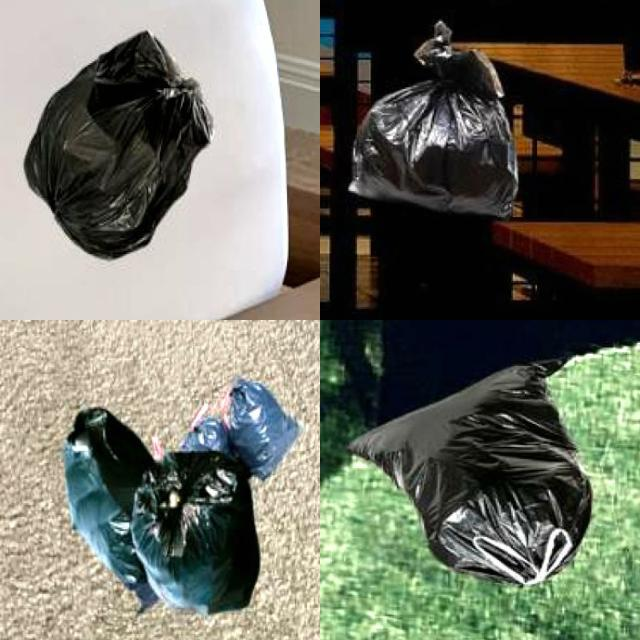Single-layer Plastic: (350, 360, 592, 584), (24, 31, 212, 259), (349, 21, 518, 217), (131, 452, 260, 612)
